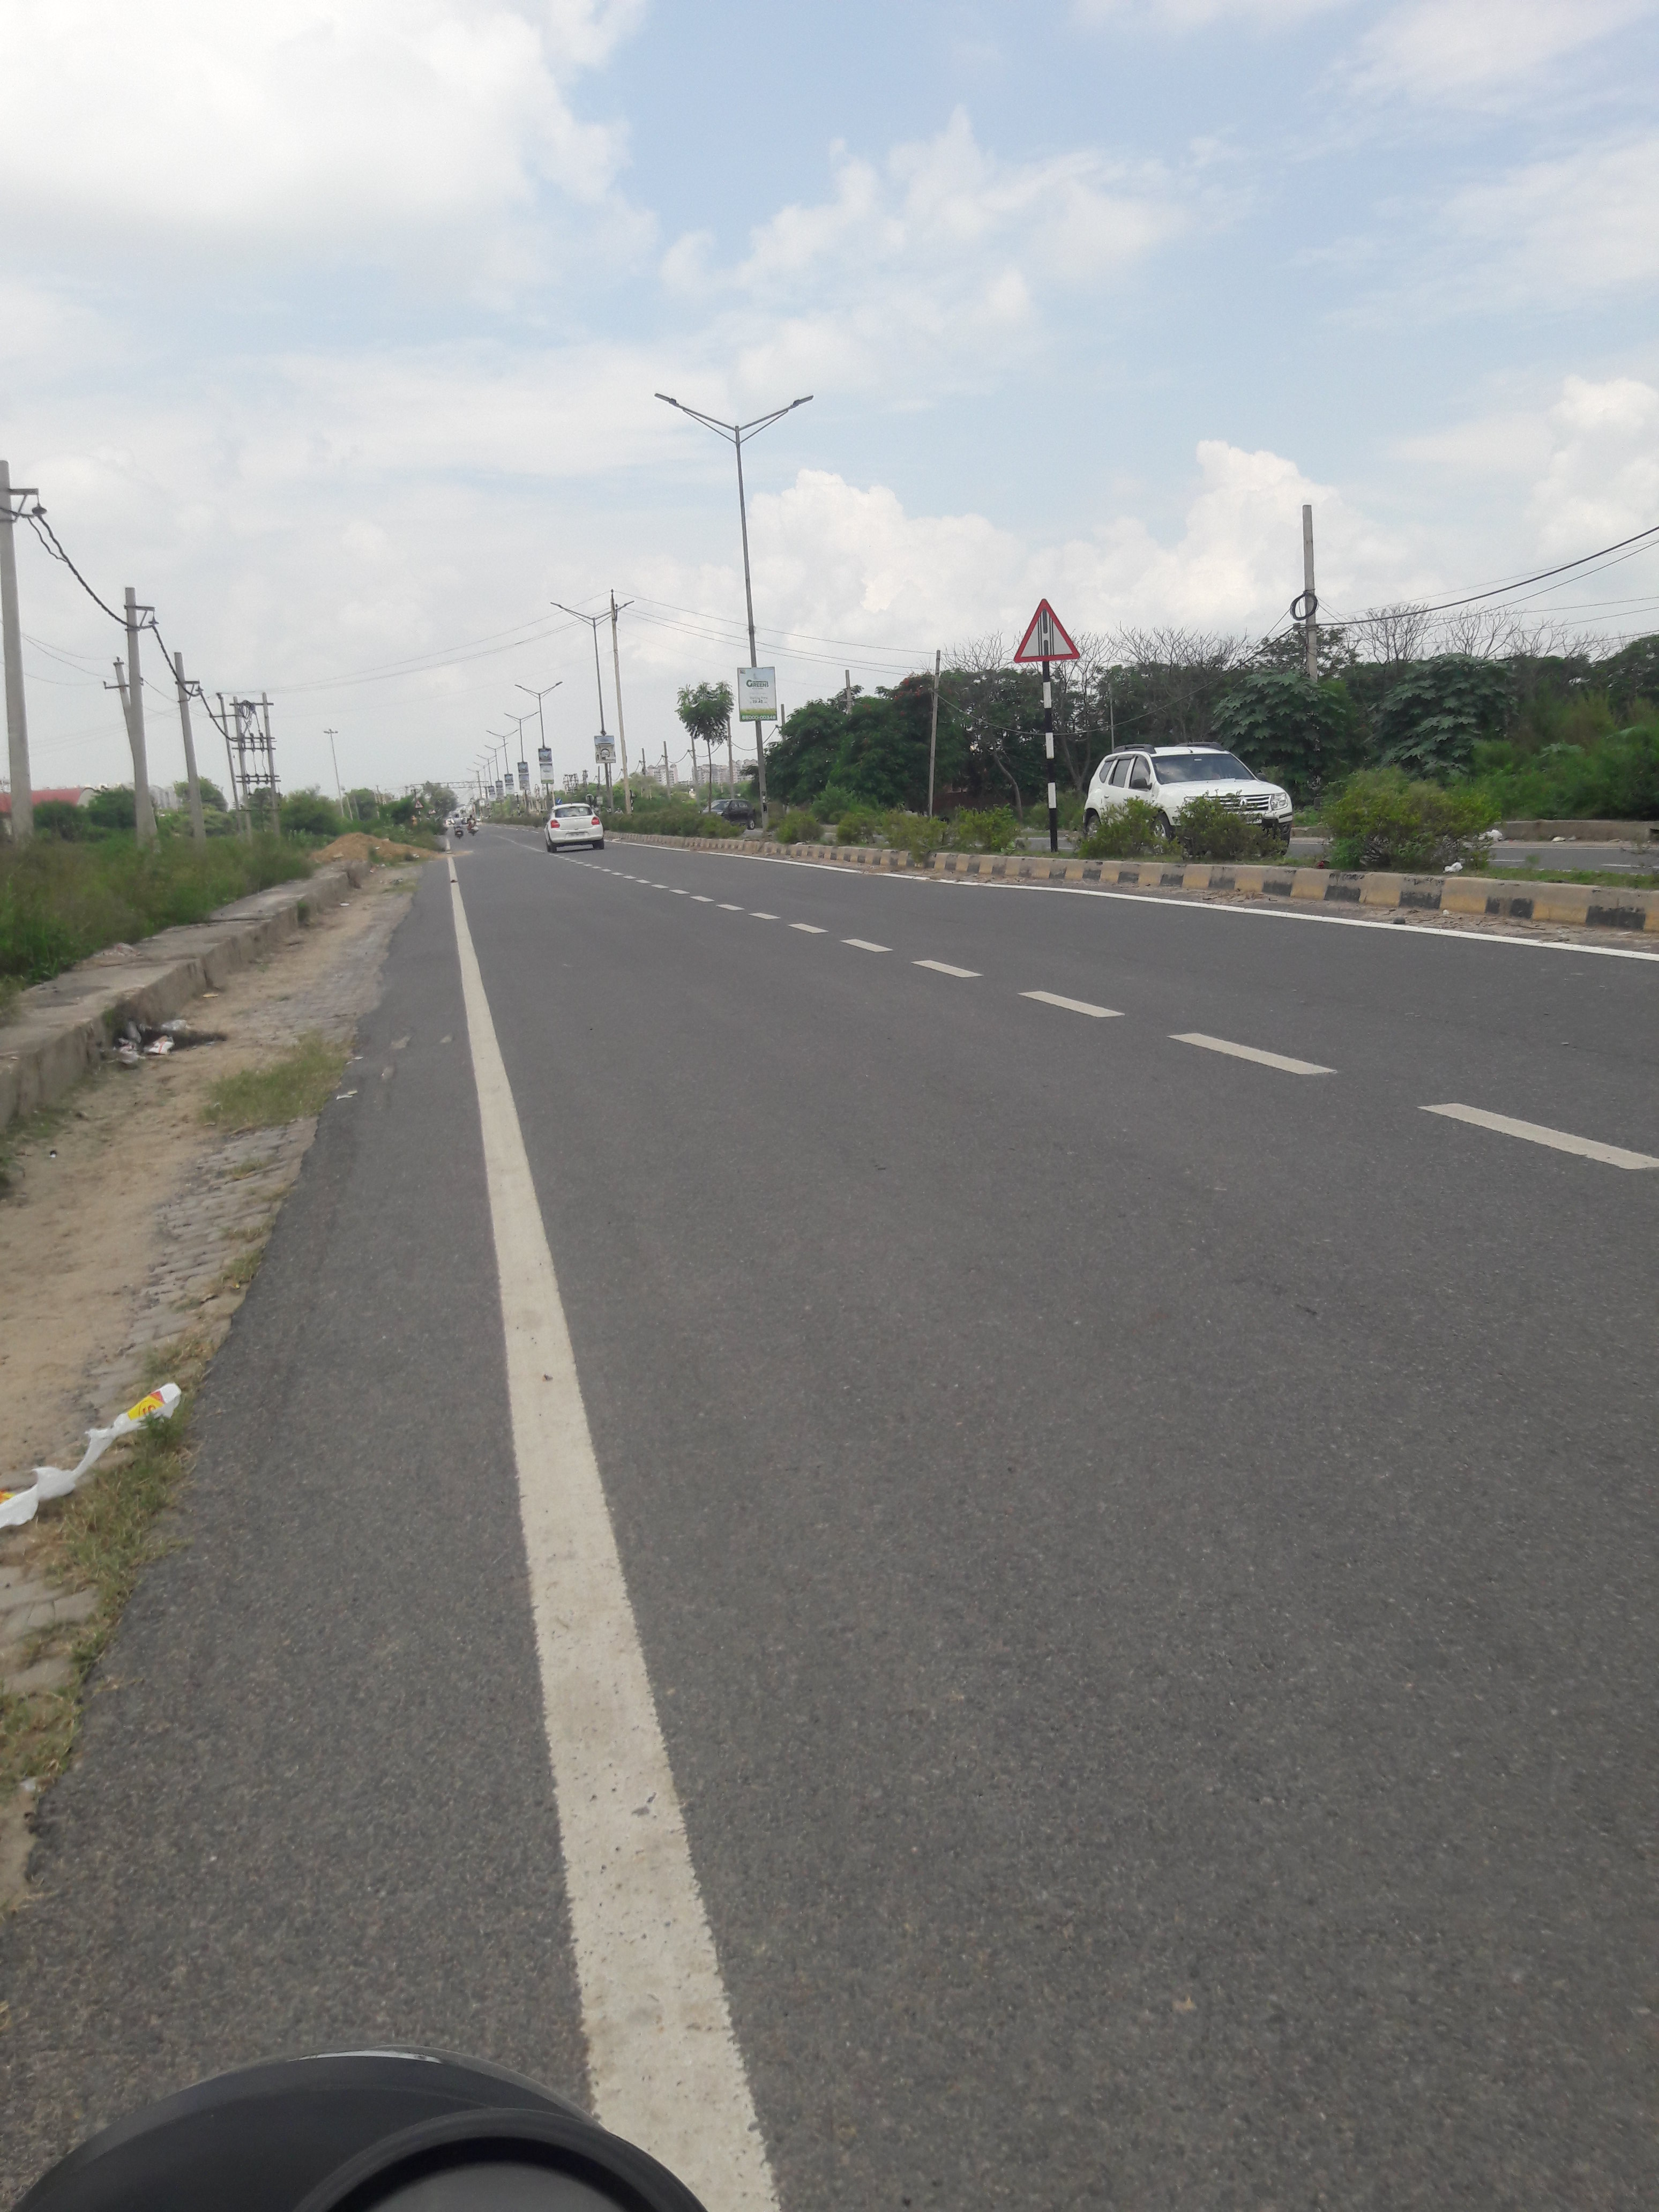traffic_sign: (1012, 599, 1080, 664)
